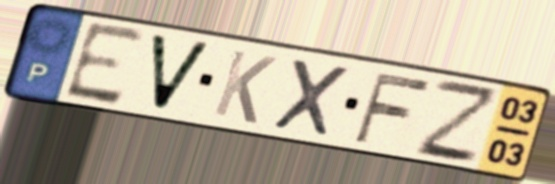E: (60, 18, 151, 109)
F: (350, 69, 436, 146)
K: (209, 46, 280, 128)
V: (147, 30, 216, 115)
X: (268, 54, 354, 141)
Z: (412, 74, 500, 167)
